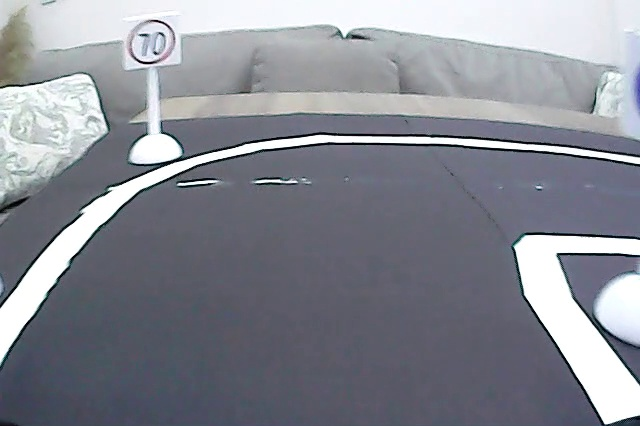speed limit 70: (125, 14, 178, 66)
